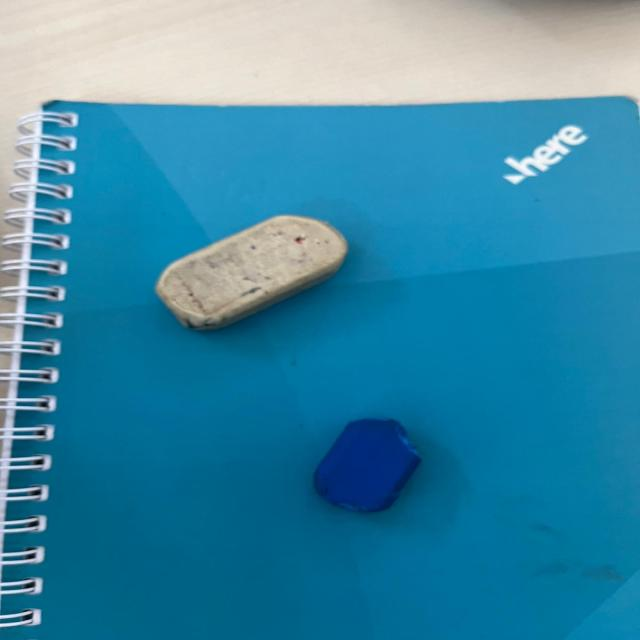eraser: (130, 209, 372, 337), (290, 406, 442, 517)
